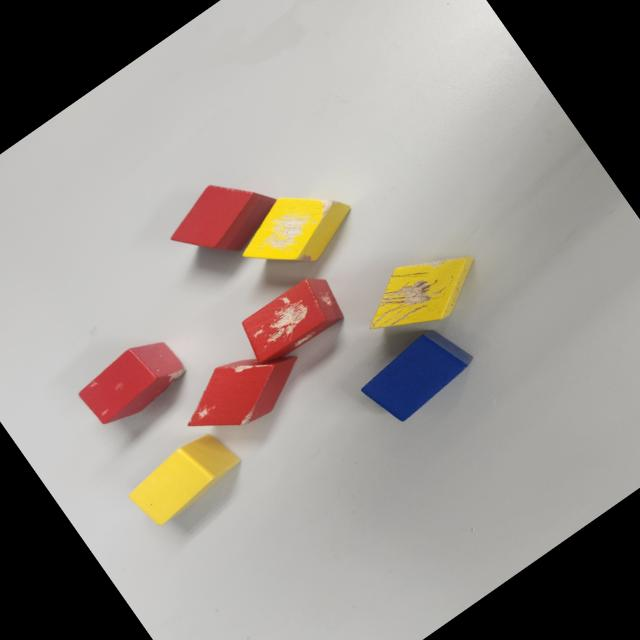blue: (354, 317, 480, 430)
broken: (171, 326, 314, 454), (350, 228, 492, 356), (227, 166, 365, 292), (72, 326, 192, 436), (233, 266, 351, 374)
red: (156, 156, 290, 280)
yellow: (122, 423, 246, 532)
